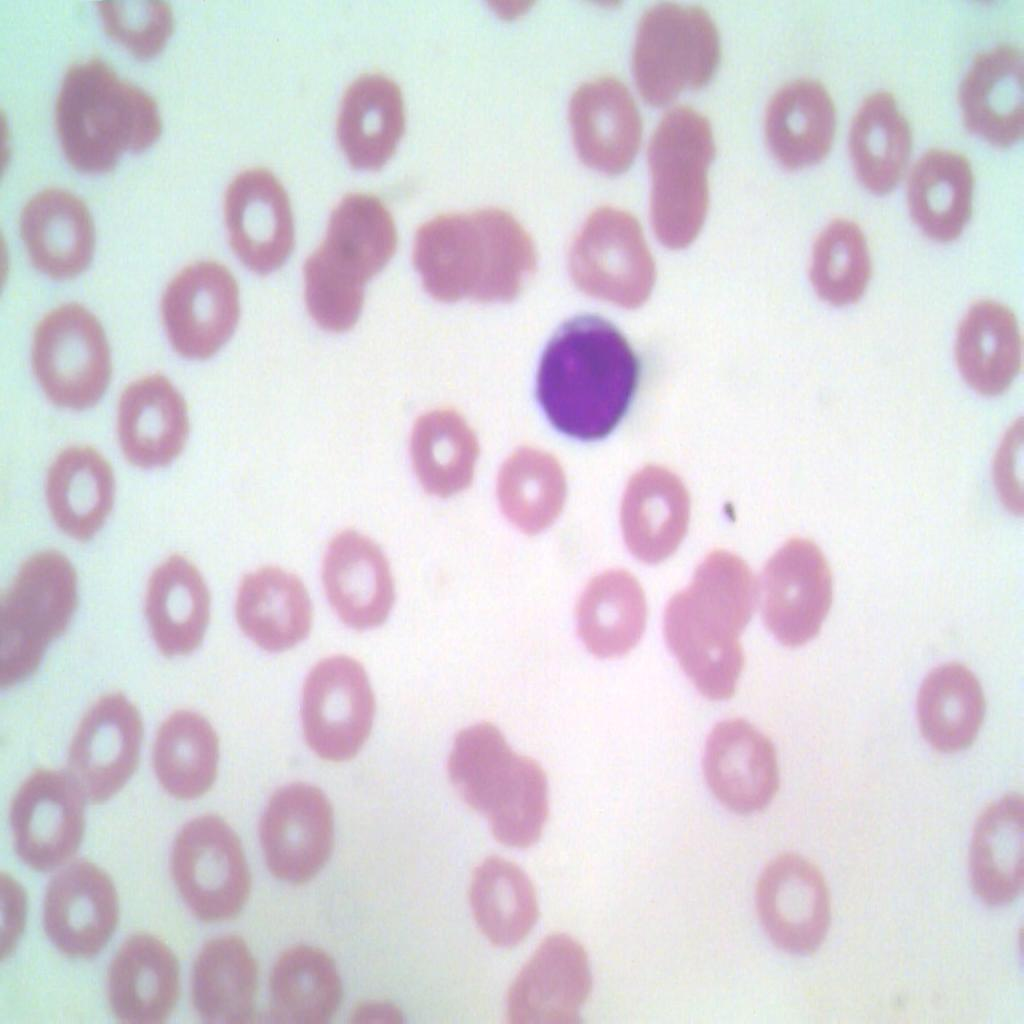Eritrosit: (296, 646, 393, 772), (28, 288, 118, 412), (310, 527, 406, 634), (628, 0, 722, 108), (568, 205, 661, 311), (844, 82, 922, 208), (170, 811, 260, 918), (34, 850, 128, 952), (56, 48, 130, 175), (164, 258, 250, 367), (336, 61, 415, 178), (662, 591, 746, 701), (184, 925, 278, 1023), (758, 532, 840, 644), (558, 58, 640, 170), (609, 458, 695, 564), (900, 141, 986, 247), (64, 687, 143, 802), (459, 191, 538, 304), (106, 372, 192, 472), (259, 774, 339, 881), (8, 765, 91, 868), (756, 857, 839, 958), (220, 161, 294, 274), (236, 557, 318, 658), (906, 655, 998, 744), (954, 44, 1023, 162), (698, 717, 778, 815), (578, 557, 652, 660), (48, 435, 119, 541), (149, 702, 226, 798), (489, 442, 569, 534), (258, 938, 344, 1023), (518, 932, 598, 1023), (102, 927, 176, 1023), (804, 210, 874, 311), (22, 185, 102, 272), (410, 402, 478, 504), (1, 550, 81, 635), (414, 211, 486, 304), (143, 561, 216, 652), (326, 185, 399, 274), (302, 246, 368, 340), (973, 782, 1023, 904), (439, 714, 515, 794), (769, 78, 836, 168), (688, 551, 754, 642), (653, 169, 719, 258), (646, 100, 720, 178), (0, 588, 62, 680), (958, 298, 1023, 385), (493, 765, 555, 855), (478, 859, 536, 944), (103, 78, 163, 155)
Limfoblast: (529, 305, 646, 454)
Platelet: (712, 489, 742, 531)
